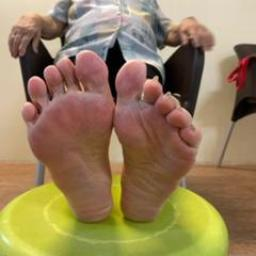Plantar View -Both Feet-: (5, 40, 219, 232)
